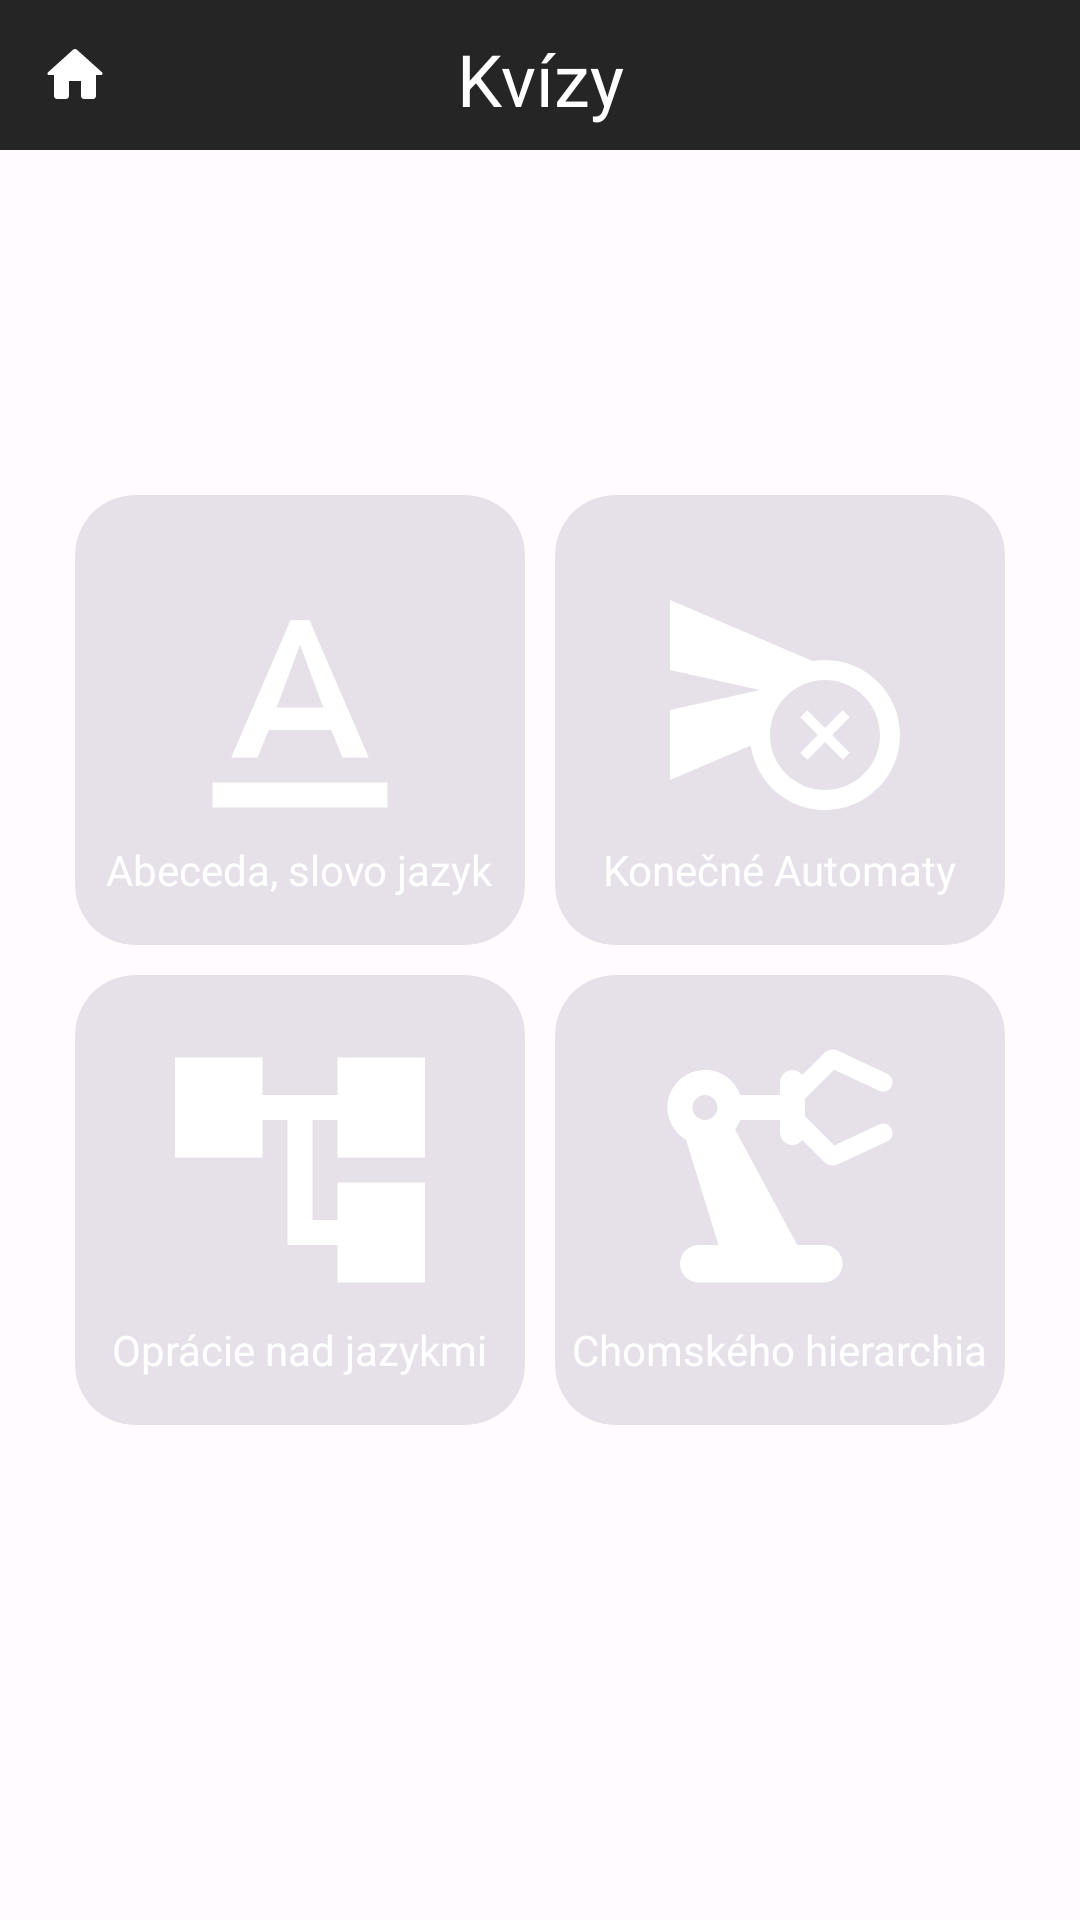

Named icons in this screenshot (1080w x 1920h) and their bounding boxes, [left=x1, top=y1, right=x2, bottom=y2]:
domov: [left=47, top=49, right=103, bottom=99]
